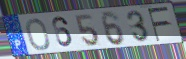3: (127, 9, 149, 43)
5: (73, 13, 101, 47)
6: (100, 10, 126, 47), (51, 15, 75, 50)
F: (146, 5, 172, 43)
O: (25, 17, 52, 52)
